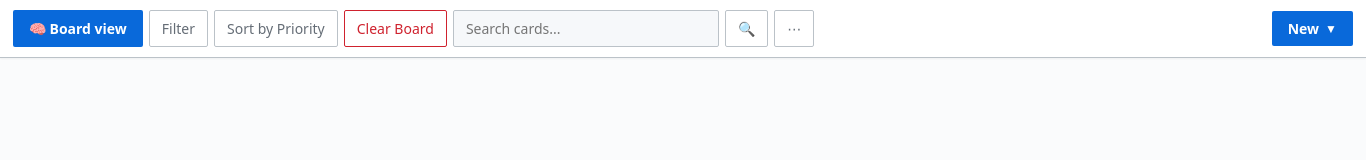
Test case: KanbanToolbar › More Options Dropdown › should hide more options dropdown after selection
Click the button titled "More options" at x=794, y=28, box [774, 10, 814, 47]
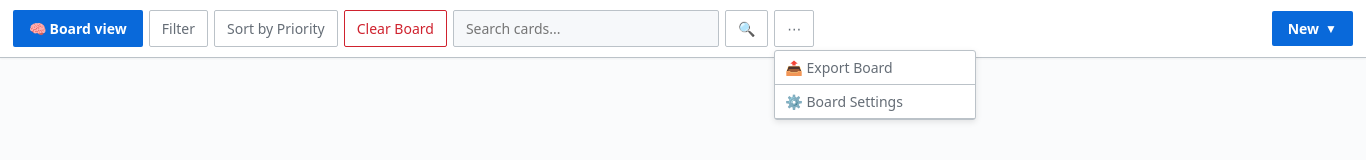
Click the text "📤 Export Board" at x=875, y=68, box [775, 51, 975, 85]
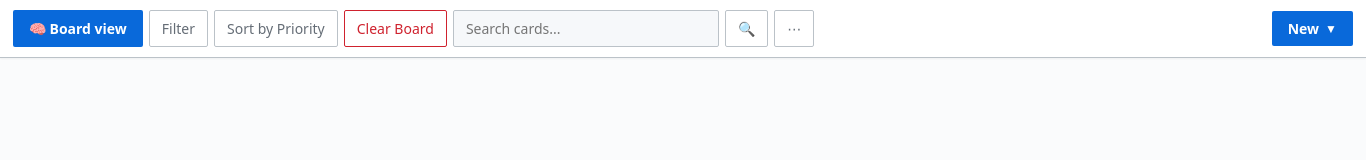
Result: the text "📤 Export Board" is gone
